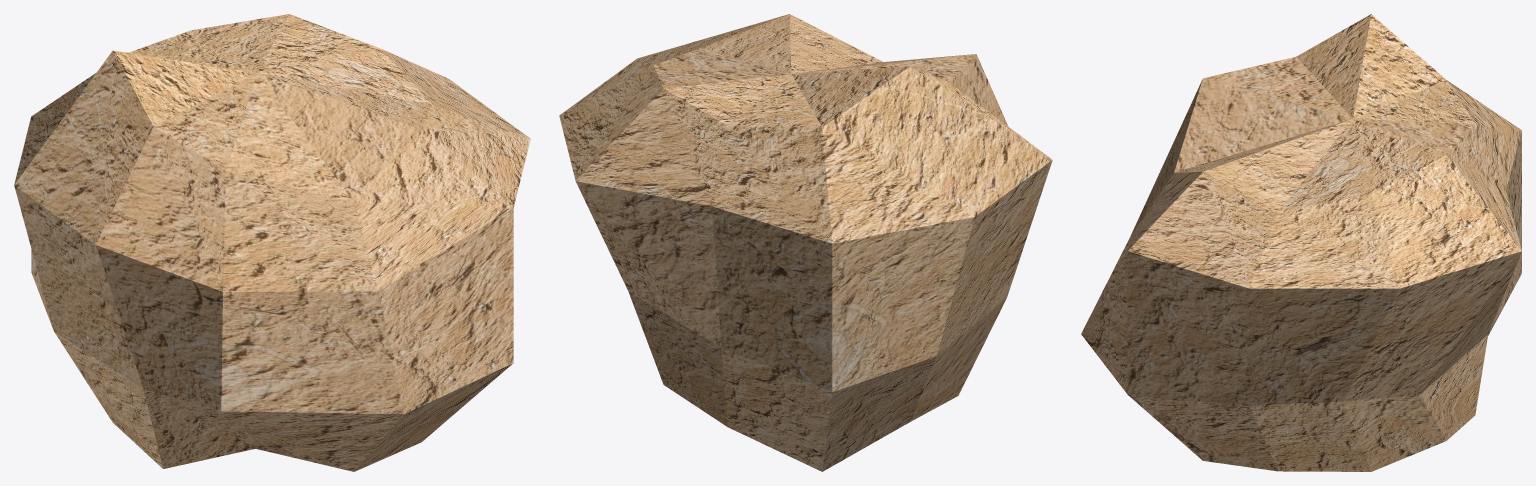
Rendered from brokenrock.fbx.
3 renders of one model, left to right at view 1: azimuth 30°, elevation 25°; view 2: azimuth 150°, elevation 25°; view 3: azimuth 270°, elevation 25°, orthographic. The views are drawn at different scales.
Parts seen in each view (by area): view 1: Sphere; view 2: Sphere; view 3: Sphere.
Part boxes in pixels (x1,y1,x2,y2): Sphere: (14,14,530,471); Sphere: (559,14,1052,471); Sphere: (1081,14,1521,471).
Bounding box in the file's own units: 181 × 162 × 172.
Materials: 1 (1 with a texture image).
